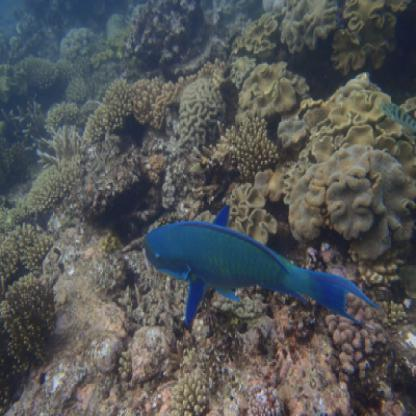Scaridae -Parrotfishes-: (138, 207, 380, 333)
